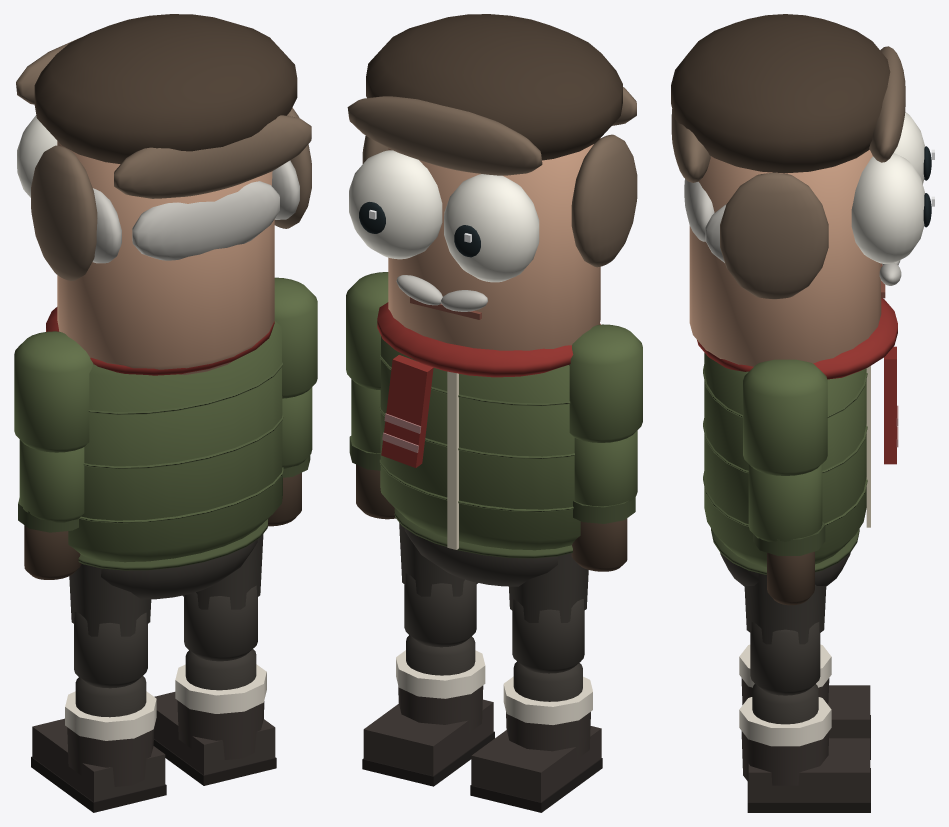
The model's file is spectator_winter_5.glb.
3 views of the same model, side by side, from view 1: azimuth 30°, elevation 25°; view 2: azimuth 150°, elevation 25°; view 3: azimuth 270°, elevation 25° (orthographic). The views are drawn at different scales.
Visible parts, largest first — view 1: Head, RallySpectator, LeftShin, RightShin, LeftArm, LeftLeg, LeftForearm, RightLeg, RightArm, RightForearm; view 2: Head, RallySpectator, LeftShin, RightShin, LeftArm, LeftForearm, LeftLeg, RightLeg, RightArm, RightForearm; view 3: Head, RallySpectator, RightShin, RightArm, RightForearm, RightLeg, LeftShin.
Part boxes in pixels (bbox=[...]): Head: bbox=[16, 14, 311, 375]; RallySpectator: bbox=[46, 307, 283, 599]; LeftShin: bbox=[31, 676, 166, 812]; RightShin: bbox=[153, 649, 276, 785]; LeftArm: bbox=[14, 331, 93, 452]; LeftLeg: bbox=[69, 564, 151, 688]; LeftForearm: bbox=[18, 439, 84, 579]; RightLeg: bbox=[183, 534, 263, 661]; RightArm: bbox=[274, 277, 317, 398]; RightForearm: bbox=[268, 387, 312, 526]; Head: bbox=[347, 14, 637, 350]; RallySpectator: bbox=[377, 302, 600, 586]; LeftShin: bbox=[470, 661, 602, 812]; RightShin: bbox=[362, 635, 494, 786]; LeftArm: bbox=[569, 324, 642, 442]; LeftForearm: bbox=[571, 430, 637, 571]; LeftLeg: bbox=[509, 553, 588, 673]; RightLeg: bbox=[399, 522, 477, 647]; RightArm: bbox=[346, 272, 388, 389]; RightForearm: bbox=[349, 379, 395, 519]; Head: bbox=[671, 14, 934, 366]; RallySpectator: bbox=[697, 298, 898, 586]; RightShin: bbox=[739, 684, 870, 812]; RightArm: bbox=[743, 359, 827, 475]; RightForearm: bbox=[748, 464, 825, 605]; RightLeg: bbox=[744, 573, 826, 695]; LeftShin: bbox=[739, 644, 870, 759].
Bounding box in the file's own units: 0.9 × 2.19 × 0.7157.
